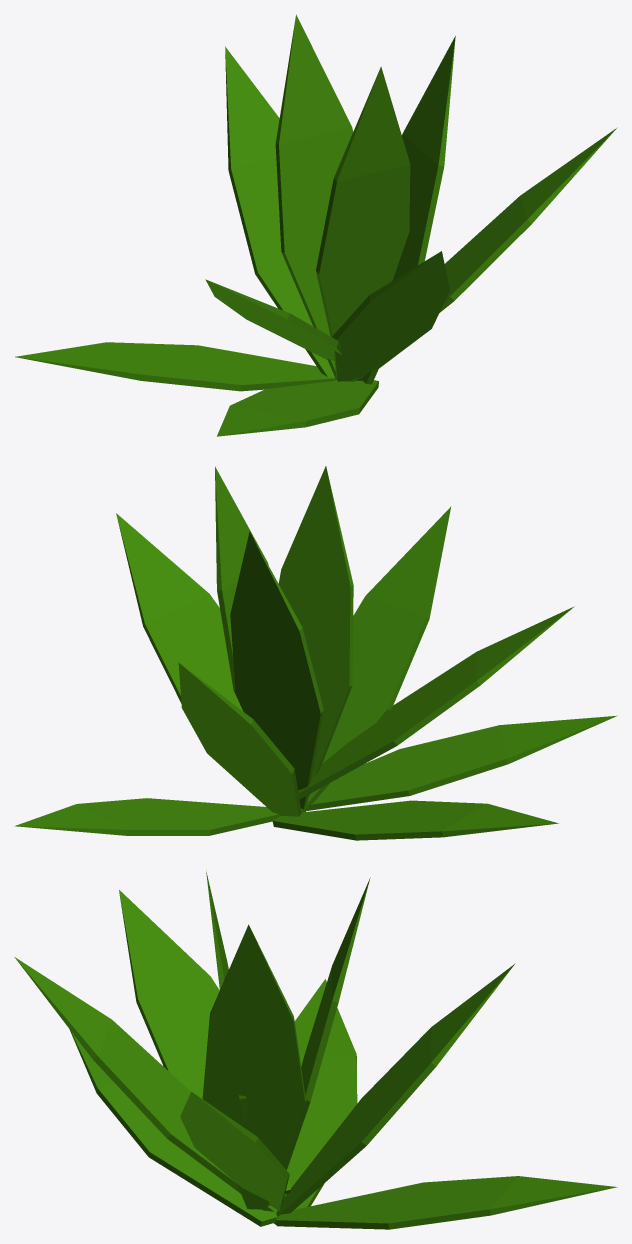
File: Plant_f_01.fbx
3 views of the same model, one above another, from view 1: azimuth 30°, elevation 25°; view 2: azimuth 150°, elevation 25°; view 3: azimuth 270°, elevation 25° (orthographic). The views are drawn at different scales.
Parts seen in each view (by area): view 1: Plant_f_01_LOD0; view 2: Plant_f_01_LOD0; view 3: Plant_f_01_LOD0.
Boxes of the visible parts, x1,y1,x2,y2 form: Plant_f_01_LOD0: [15, 14, 617, 436]; Plant_f_01_LOD0: [14, 466, 617, 840]; Plant_f_01_LOD0: [14, 870, 617, 1229].
Size of what is drawn, in the model's own units: 19.78 by 12.48 by 19.41.
